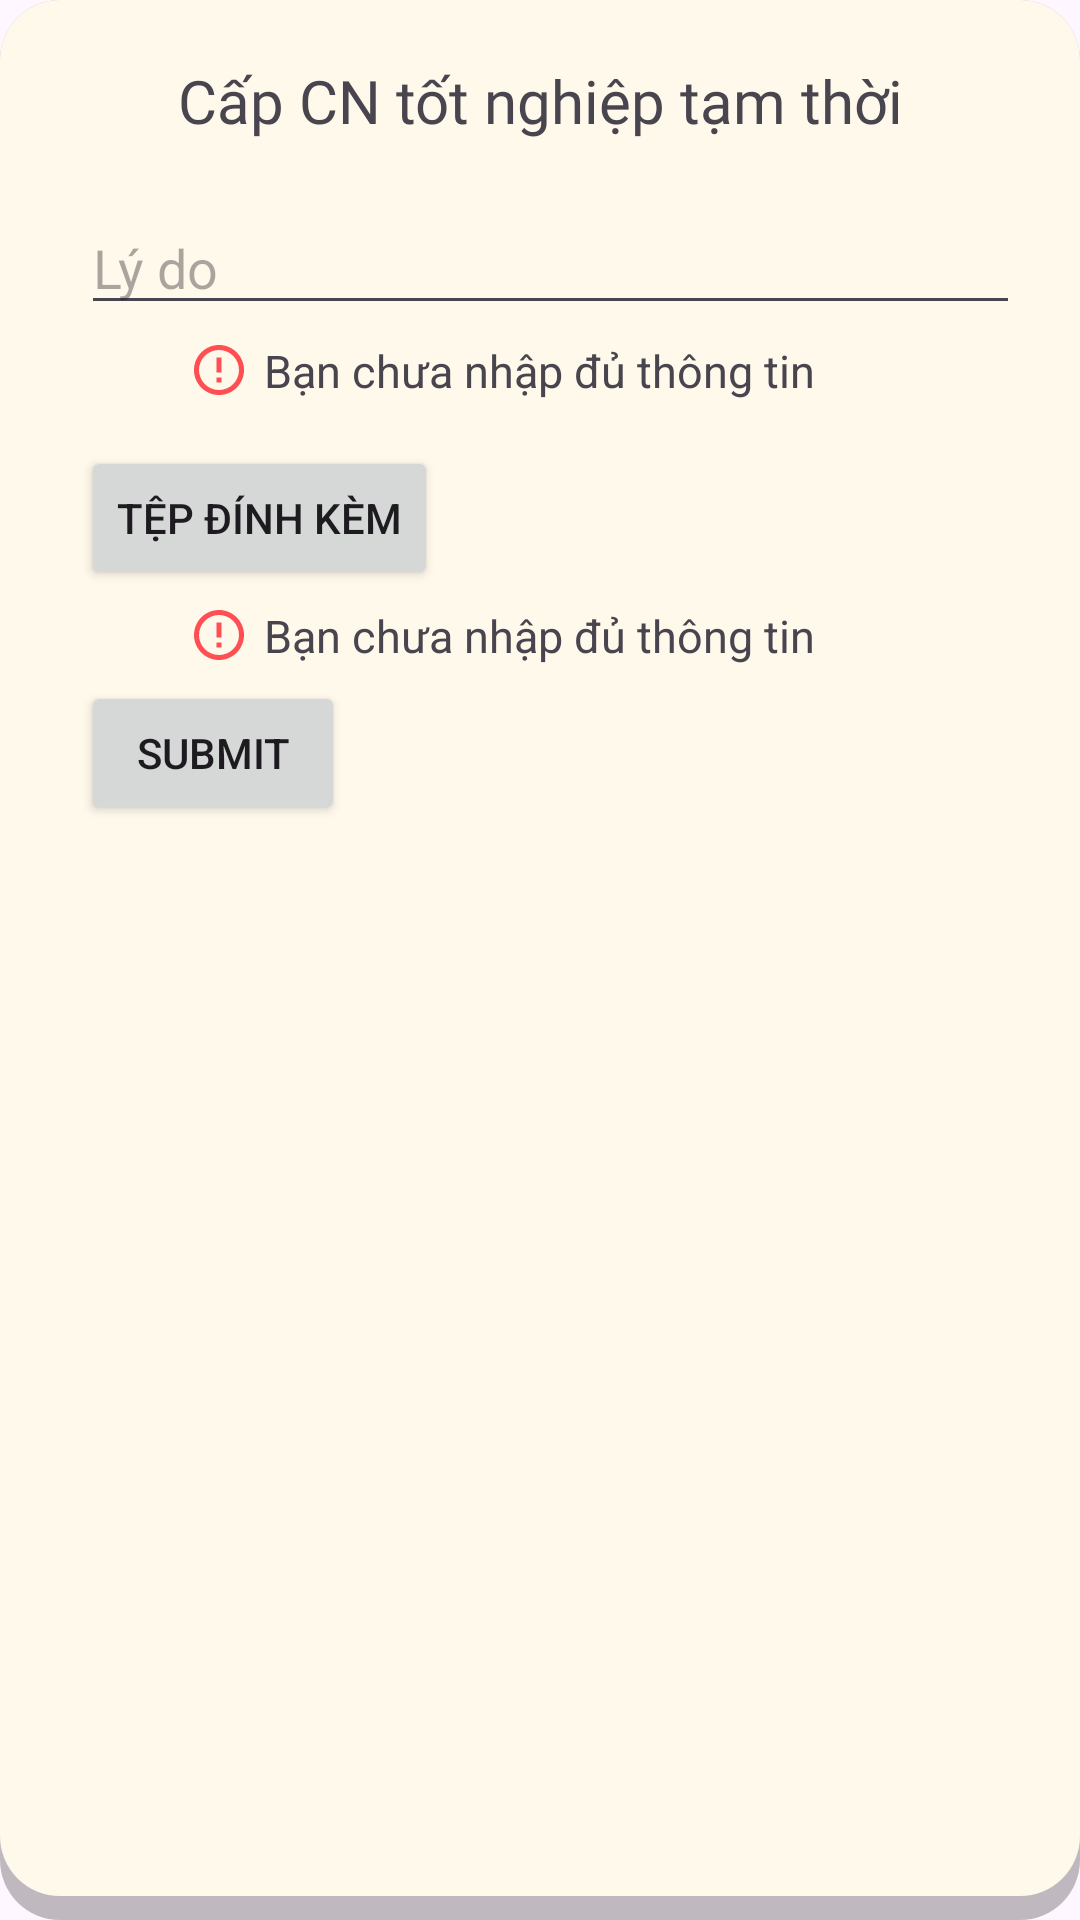

Icon bounding boxes for this 1080*1920 phone screenshot, format (x1, y1, x2, y2):
roundedwarning: (194, 345, 244, 395), (194, 610, 244, 660)
